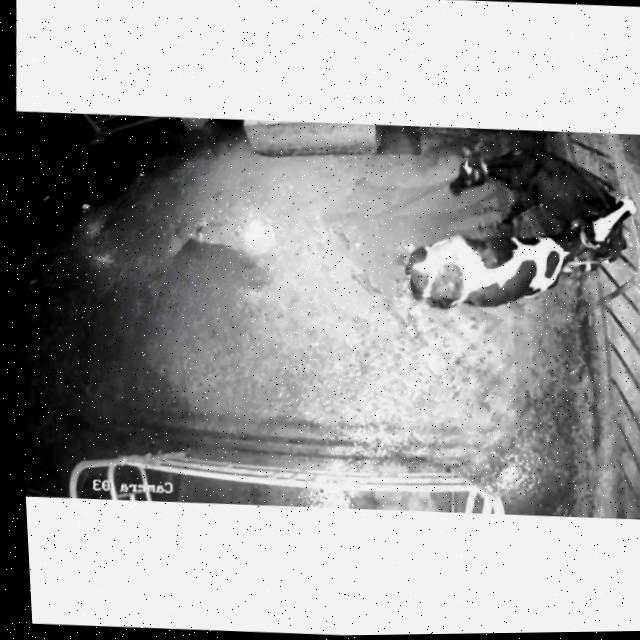propping: (546, 178, 640, 273)
